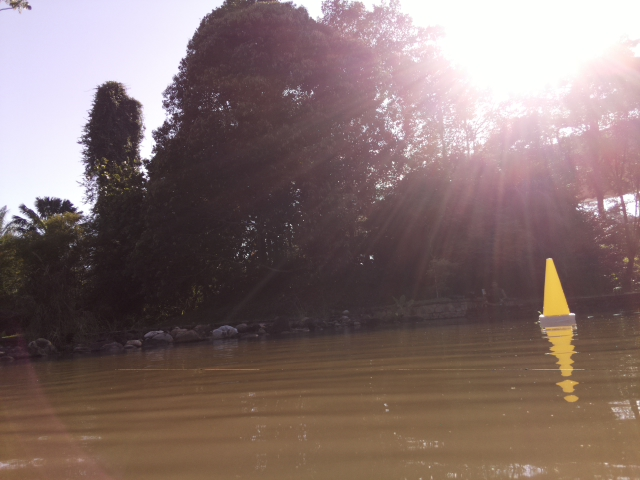checkpoint: (534, 256, 579, 325)
